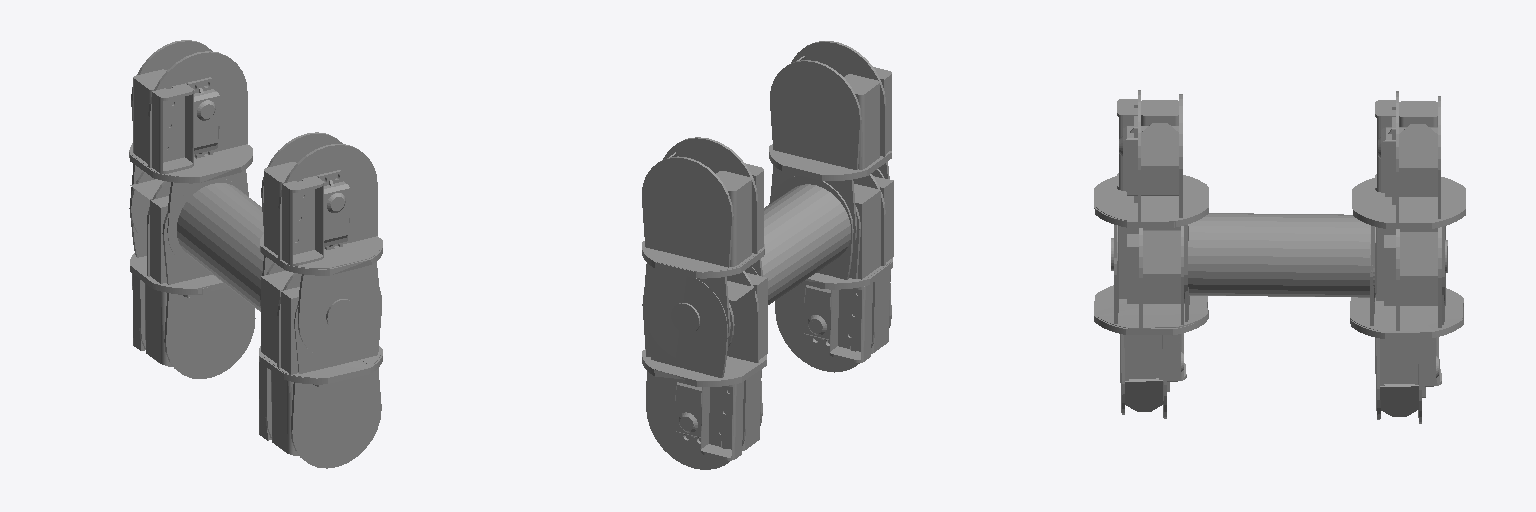
The model's file is pezzoMagicoCorretto.obj.
3 renders of one model, left to right at view 1: azimuth 30°, elevation 25°; view 2: azimuth 150°, elevation 25°; view 3: azimuth 270°, elevation 25°, orthographic.
Visible parts, largest first — view 1: snake_body6_center_snake_body6_respondable.001, snake_body2_right_snake_body4.002, snake_body2_right_snake_body4.000, snake_body2_right_snake_body4.001, snake_body2_right_snake_body4.003; view 2: snake_body6_center_snake_body6_respondable.001, snake_body2_right_snake_body4.002, snake_body2_right_snake_body4.000, snake_body2_right_snake_body4.001, snake_body2_right_snake_body4.003; view 3: snake_body6_center_snake_body6_respondable.001, snake_body2_right_snake_body4.002, snake_body2_right_snake_body4.000, snake_body2_right_snake_body4.001, snake_body2_right_snake_body4.003.
Part boxes in pixels (x1,y1,x2,y2): snake_body6_center_snake_body6_respondable.001: (129, 143, 382, 386); snake_body2_right_snake_body4.002: (131, 40, 252, 182); snake_body2_right_snake_body4.000: (261, 132, 382, 275); snake_body2_right_snake_body4.001: (259, 346, 381, 468); snake_body2_right_snake_body4.003: (132, 273, 255, 378); snake_body6_center_snake_body6_respondable.001: (642, 144, 893, 386); snake_body2_right_snake_body4.002: (642, 137, 763, 271); snake_body2_right_snake_body4.000: (770, 41, 891, 175); snake_body2_right_snake_body4.001: (775, 258, 892, 372); snake_body2_right_snake_body4.003: (642, 349, 762, 469); snake_body6_center_snake_body6_respondable.001: (1094, 175, 1465, 335); snake_body2_right_snake_body4.002: (1352, 91, 1465, 228); snake_body2_right_snake_body4.000: (1094, 90, 1190, 227); snake_body2_right_snake_body4.001: (1096, 296, 1208, 418); snake_body2_right_snake_body4.003: (1350, 301, 1463, 423).
Bounding box in the file's own units: 0.0744 × 0.2251 × 0.2354.